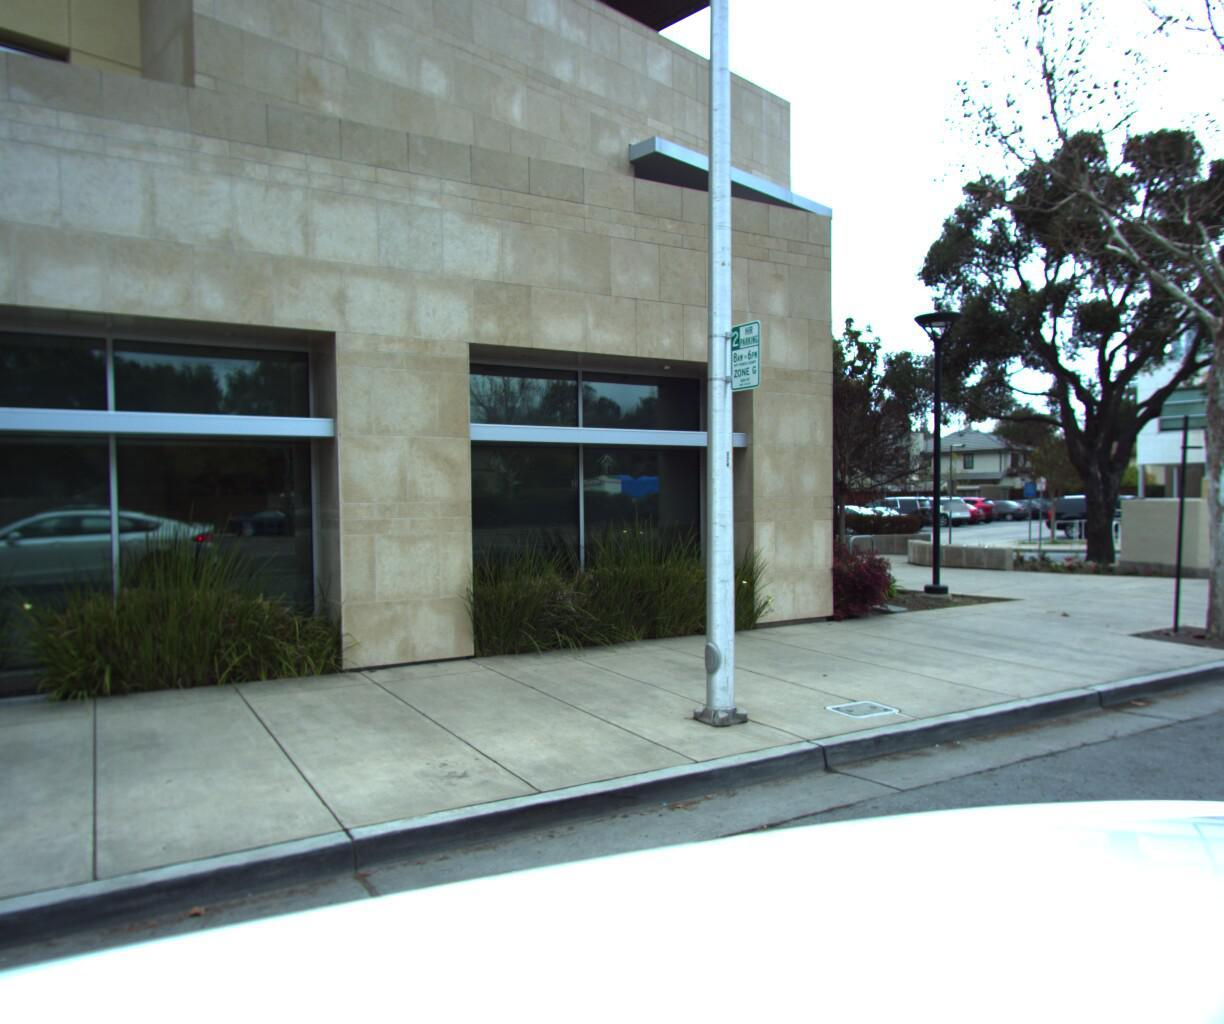car: (830, 499, 918, 529)
